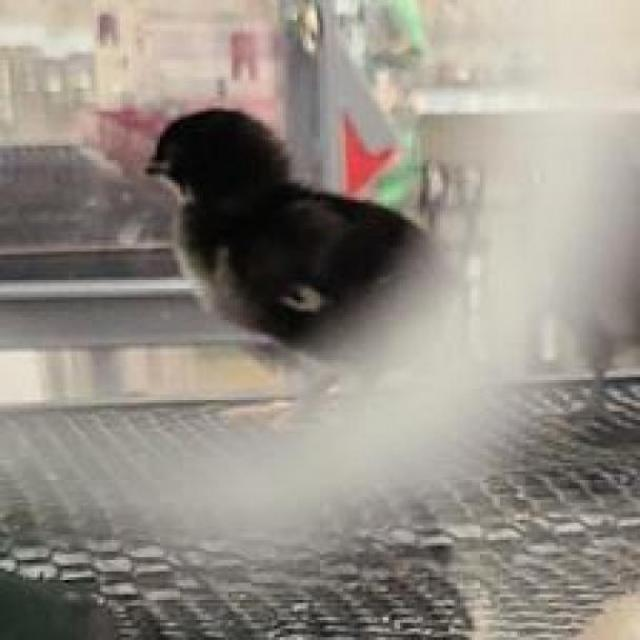Chicken: (136, 102, 512, 452)
